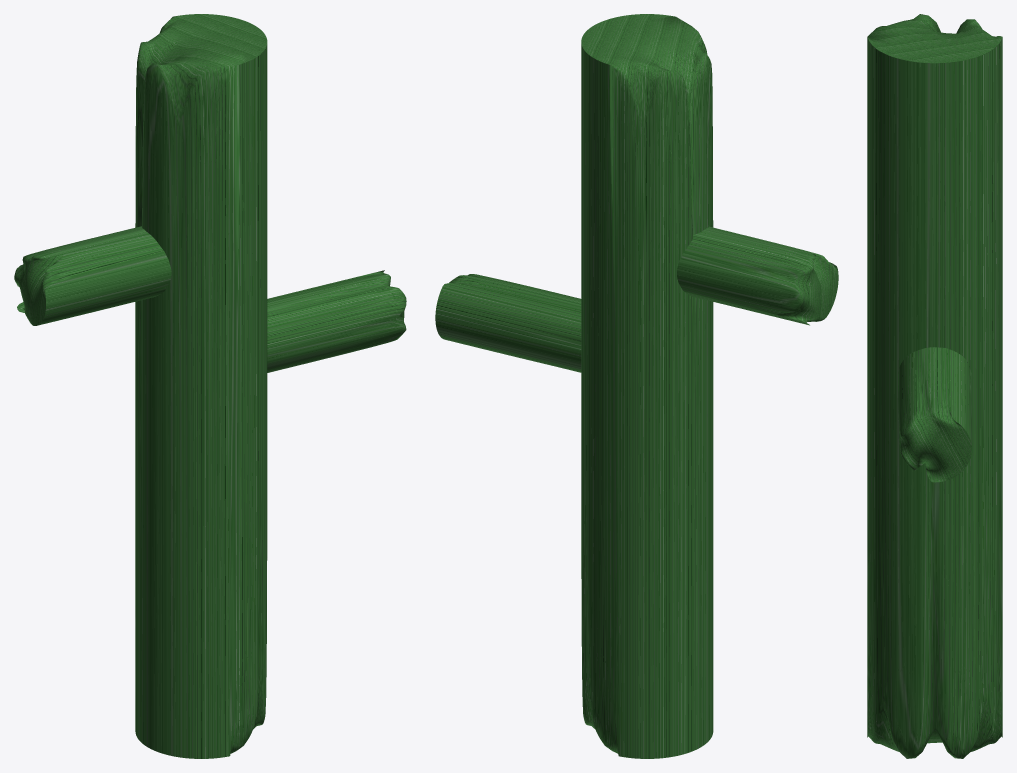
Rendered from cactus_tall.glb.
3 views of the same model, side by side, from view 1: azimuth 30°, elevation 25°; view 2: azimuth 150°, elevation 25°; view 3: azimuth 270°, elevation 25° (orthographic). The views are drawn at different scales.
Visible parts, largest first — view 1: Cylinder; view 2: Cylinder; view 3: Cylinder.
Boxes of the visible parts, x1,y1,x2,y2 form: Cylinder: [14, 14, 406, 758]; Cylinder: [435, 14, 838, 758]; Cylinder: [867, 14, 1002, 758].
Size of the model in its own units: 1.78 by 3.2 by 0.5563.
1 material, 1 textured.
